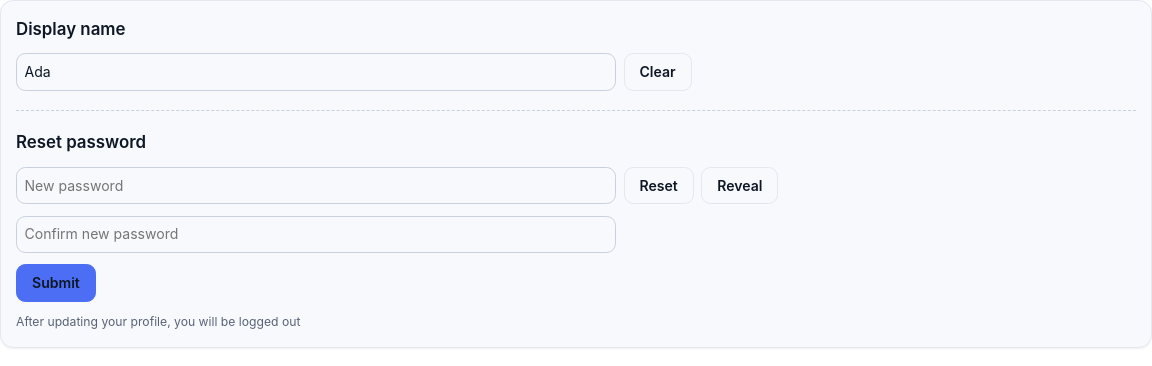
Scenario: EditProfileSettings controls › empties the display name with the Clear button
The width and height of the screenshot is (1152, 366).
Click the button "Clear" at (658, 72), box [624, 53, 692, 91]
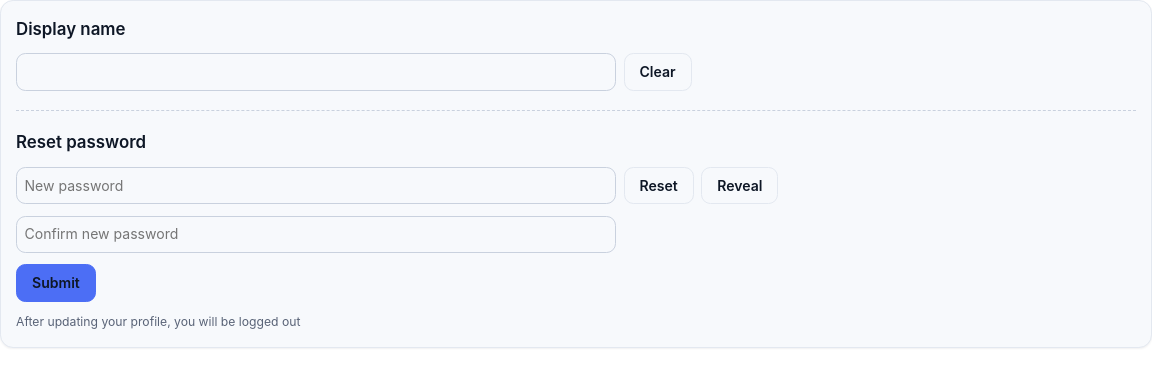
Check: the field named "Display name" is empty, box [16, 53, 616, 91]
